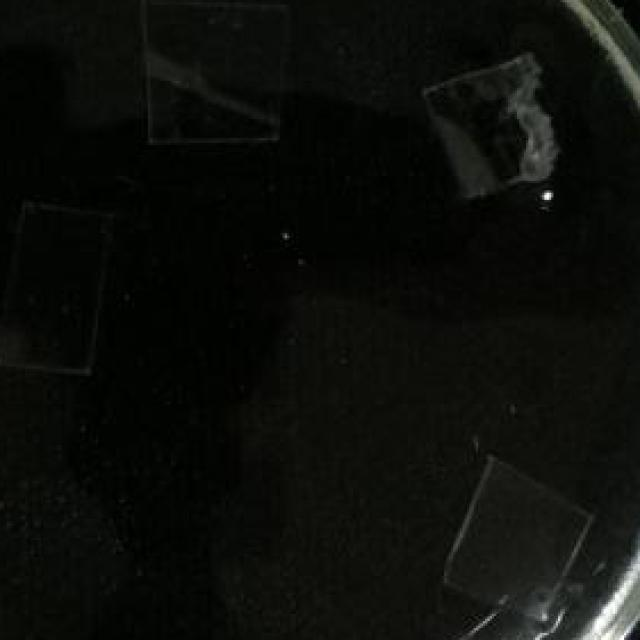Microplastic: (433, 448, 599, 624), (129, 0, 296, 152), (414, 50, 570, 205), (0, 190, 114, 381)
